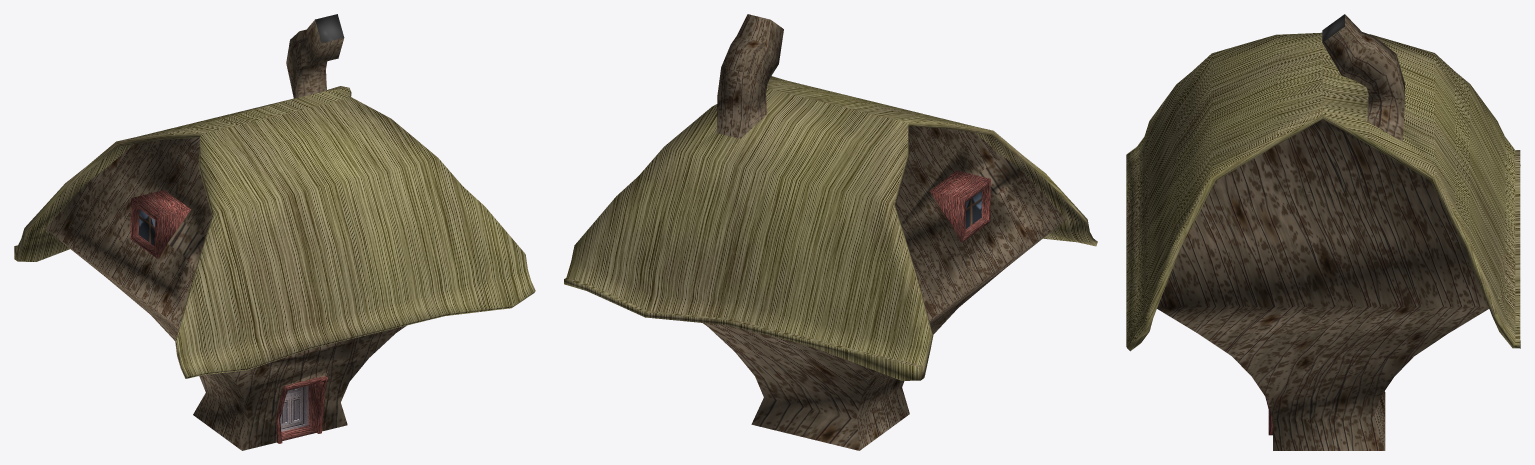
Rendered from mush_house1.fbx.
3 renders of one model, left to right at view 1: azimuth 30°, elevation 25°; view 2: azimuth 150°, elevation 25°; view 3: azimuth 270°, elevation 25°, orthographic. The views are drawn at different scales.
Visible parts, largest first — view 1: U3DMesh; view 2: U3DMesh; view 3: U3DMesh.
Part boxes in pixels (x1,y1,x2,y2): U3DMesh: (14,14,535,450); U3DMesh: (564,14,1097,450); U3DMesh: (1126,14,1520,450).
Bounding box in the file's own units: 23.05 × 24.21 × 19.8.
5 materials, 5 textured.
